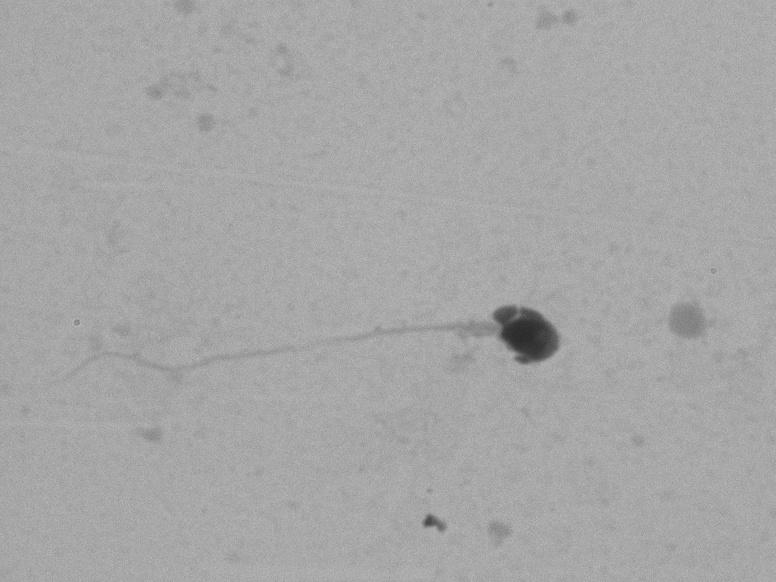Abnormal: (42, 270, 566, 427)
